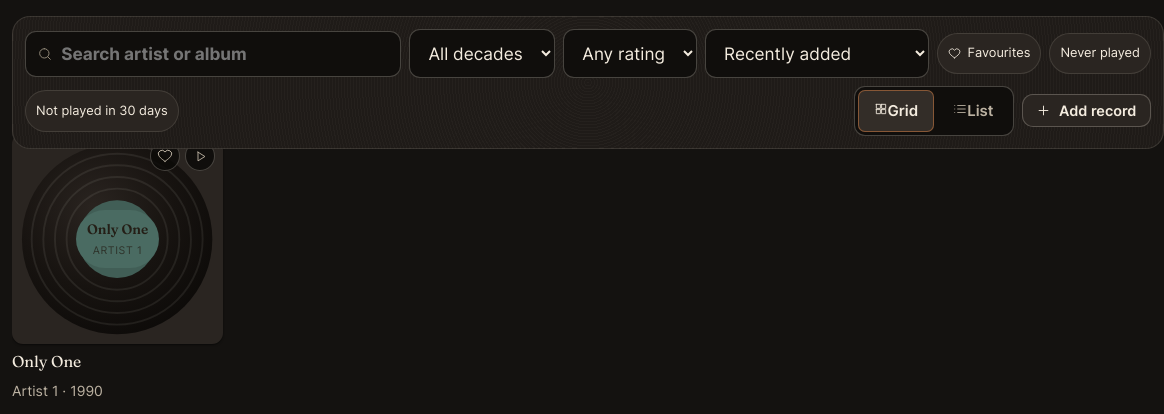
Test: CollectionBrowser › a zero-result filter shows a FILTERED-empty state, not "collection is empty"
The image size is (1164, 414).
Type "zzzznope" into the search field at [225, 54], box [61,32,389,76]
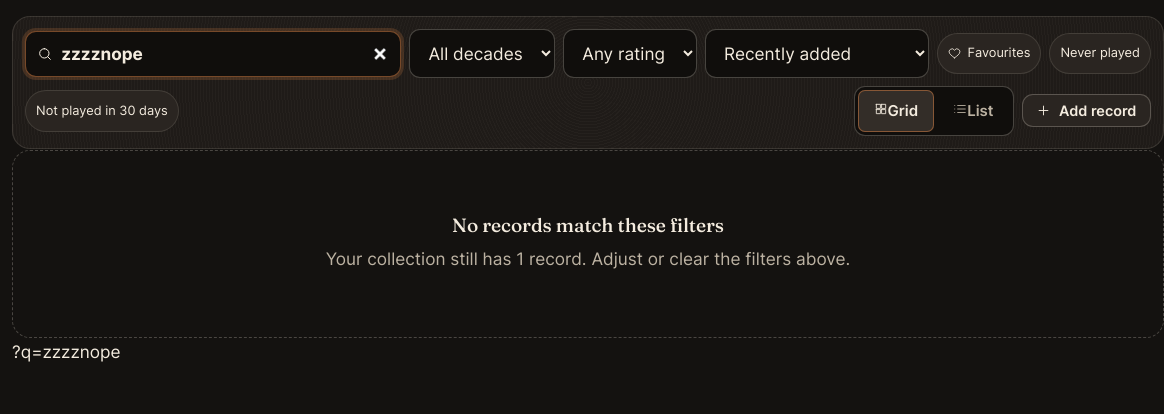
Now the heading "No records match these filters" is shown, box [452,214,724,238]
Now the text "collection still has 1 record" is shown, box [326,248,850,269]
